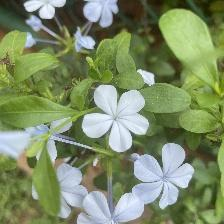chitrak: (83, 83, 153, 153), (133, 144, 196, 211), (79, 191, 145, 224), (82, 1, 122, 28), (23, 1, 68, 21)
